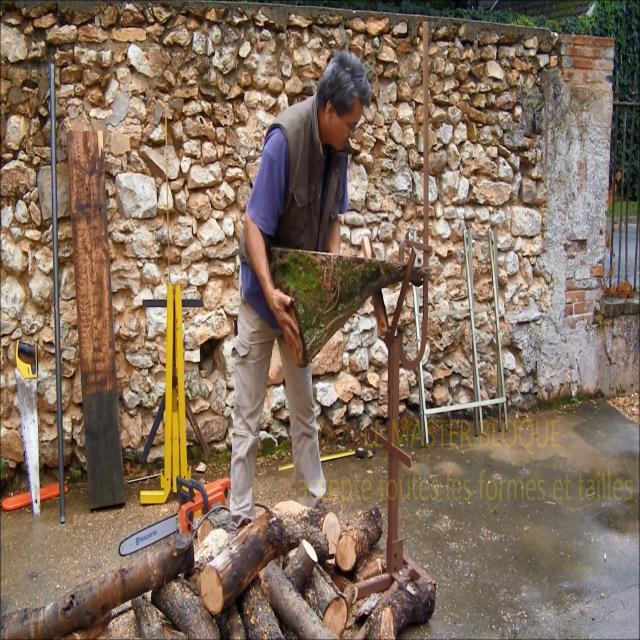Chainsaw: (114, 450, 253, 575)
